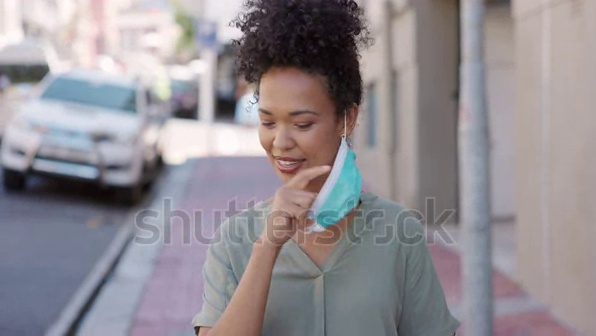No Mask: (256, 133, 342, 191)
